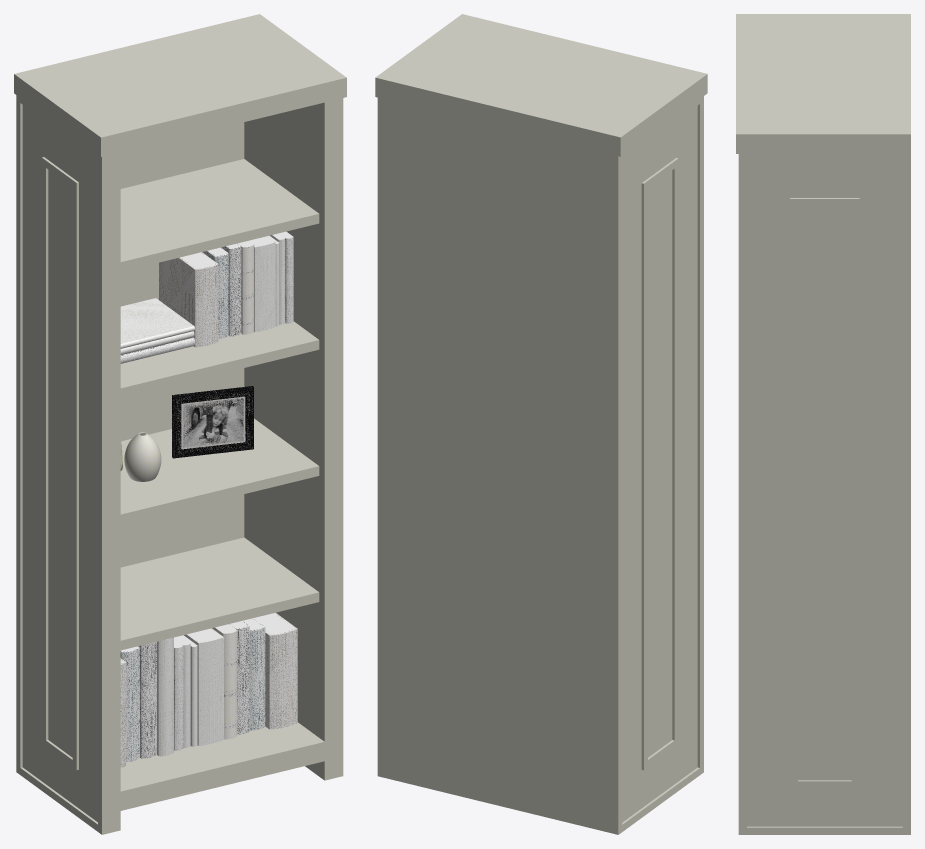
3 views of the same model, side by side, from view 1: azimuth 30°, elevation 25°; view 2: azimuth 150°, elevation 25°; view 3: azimuth 270°, elevation 25° (orthographic).
Parts seen in each view (by area): view 1: Antique_Bokcase___26w_x_72h (×4), Simple_Books___Medium_Stack (×15), Simple_Books___Medium_Stack_1 (×4), BW_Little_Boy_Holding_Street_Pole (×3), Simple_Books___Medium_Stack_2 (×2), image_0, WE___Egg_Ceramic_Bud_Vase___Butter_Yellow; view 2: Antique_Bokcase___26w_x_72h (×4); view 3: Antique_Bokcase___26w_x_72h (×4).
Part boxes in pixels (left/top/right/bottom): Antique_Bokcase___26w_x_72h (×4): left=14, top=14, right=346, bottom=834; Simple_Books___Medium_Stack (×15): left=159, top=233, right=297, bottom=750; Simple_Books___Medium_Stack_1 (×4): left=120, top=637, right=173, bottom=767; BW_Little_Boy_Holding_Street_Pole (×3): left=172, top=386, right=253, bottom=458; Simple_Books___Medium_Stack_2 (×2): left=120, top=298, right=194, bottom=363; image_0: left=183, top=398, right=243, bottom=447; WE___Egg_Ceramic_Bud_Vase___Butter_Yellow: left=124, top=432, right=161, bottom=481; Antique_Bokcase___26w_x_72h (×4): left=375, top=14, right=707, bottom=834; Antique_Bokcase___26w_x_72h (×4): left=736, top=14, right=910, bottom=834.
Size of the model in its own units: 26.5 by 16.25 by 72.
